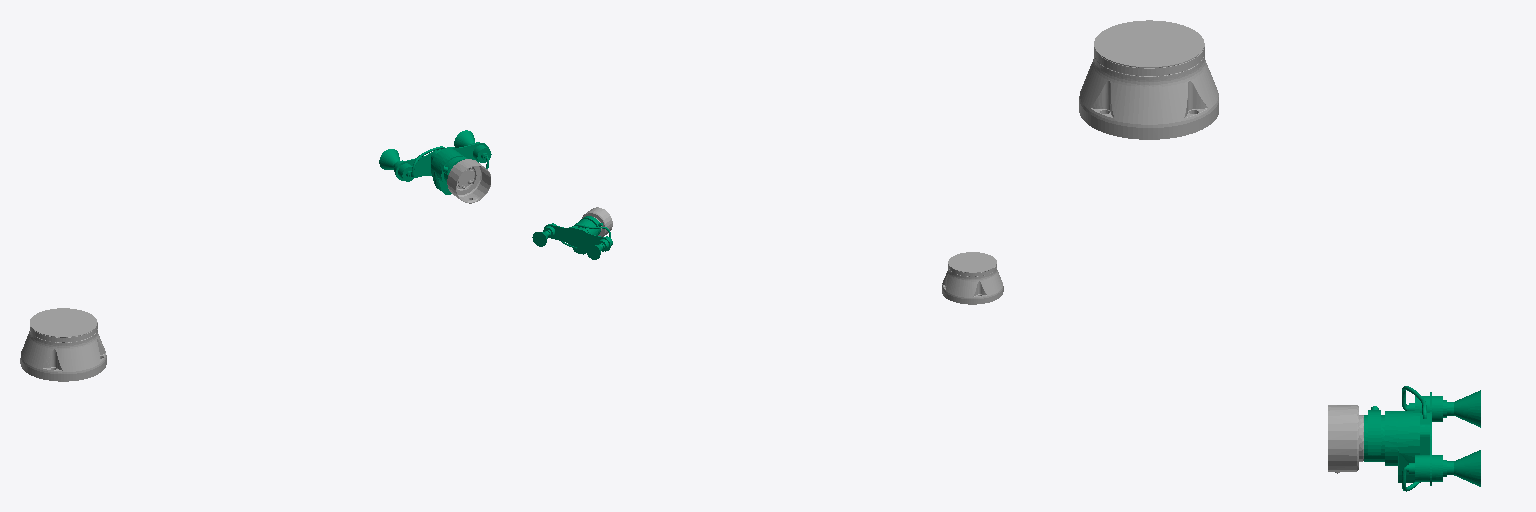
URDF robot description (ur10e):
<?xml version="1.0" ?>
<!-- =================================================================================== -->
<!-- |    This document was autogenerated by xacro from ur10e_robot.urdf.xacro         | -->
<!-- |    EDITING THIS FILE BY HAND IS NOT RECOMMENDED                                 | -->
<!-- =================================================================================== -->
<robot name="ur10e" xmlns:xacro="http://ros.org/wiki/xacro">
  <gazebo>
    <plugin filename="libgazebo_ros_control.so" name="ros_control">
      <!--robotNamespace>/</robotNamespace-->
      <!--robotSimType>gazebo_ros_control/DefaultRobotHWSim</robotSimType-->
    </plugin>
    <!--
    <plugin name="gazebo_ros_power_monitor_controller" filename="libgazebo_ros_power_monitor.so">
      <alwaysOn>true</alwaysOn>
      <updateRate>1.0</updateRate>
      <timeout>5</timeout>
      <powerStateTopic>power_state</powerStateTopic>
      <powerStateRate>10.0</powerStateRate>
      <fullChargeCapacity>87.78</fullChargeCapacity>     
      <dischargeRate>-474</dischargeRate>
      <chargeRate>525</chargeRate>
      <dischargeVoltage>15.52</dischargeVoltage>
      <chargeVoltage>16.41</chargeVoltage>
    </plugin>
-->
  </gazebo>
  <!--
  Author: [author]
  Contributers: [author], [author], [author]
-->
  <link name="base_link">
    <visual>
      <geometry>
        <mesh filename="package://ur_e_description/meshes/ur10e/visual/base.obj"/>
      </geometry>
      <material name="LightGrey">
        <color rgba="0.7 0.7 0.7 1.0"/>
      </material>
    </visual>
    <collision>
      <geometry>
        <mesh filename="package://ur_e_description/meshes/ur10e/collision/base.stl"/>
      </geometry>
    </collision>
    <inertial>
      <mass value="4.0"/>
      <origin rpy="0 0 0" xyz="0.0 0.0 0.0"/>
      <inertia ixx="0.0061063308908" ixy="0.0" ixz="0.0" iyy="0.0061063308908" iyz="0.0" izz="0.01125"/>
    </inertial>
  </link>
  <joint name="shoulder_pan_joint" type="revolute">
    <parent link="base_link"/>
    <child link="shoulder_link"/>
    <origin rpy="0.0 0.0 0.0" xyz="0.0 0.0 0.181"/>
    <axis xyz="0 0 1"/>
    <limit effort="330.0" lower="-6.28318530718" upper="6.28318530718" velocity="3.14"/>
    <dynamics damping="0.0" friction="0.0"/>
  </joint>
  <link name="shoulder_link">
    <visual>
      <geometry>
        <mesh filename="package://ur_e_description/meshes/ur10e/visual/shoulder.obj"/>
      </geometry>
      <material name="LightGrey">
        <color rgba="0.7 0.7 0.7 1.0"/>
      </material>
    </visual>
    <collision>
      <geometry>
        <mesh filename="package://ur_e_description/meshes/ur10e/collision/shoulder.stl"/>
      </geometry>
    </collision>
    <inertial>
      <mass value="7.778"/>
      <origin rpy="0 0 0" xyz="0.0 0.0 0.0"/>
      <inertia ixx="0.0314743125769" ixy="0.0" ixz="0.0" iyy="0.0314743125769" iyz="0.0" izz="0.021875625"/>
    </inertial>
  </link>
  <joint name="shoulder_lift_joint" type="revolute">
    <parent link="shoulder_link"/>
    <child link="upper_arm_link"/>
    <origin rpy="0.0 1.57079632679 0.0" xyz="0.0 0.176 0.0"/>
    <axis xyz="0 1 0"/>
    <limit effort="330.0" lower="-6.28318530718" upper="6.28318530718" velocity="3.14"/>
    <dynamics damping="0.0" friction="0.0"/>
  </joint>
  <link name="upper_arm_link">
    <visual>
      <geometry>
        <mesh filename="package://ur_e_description/meshes/ur10e/visual/upperarm.obj"/>
      </geometry>
      <material name="LightGrey">
        <color rgba="0.7 0.7 0.7 1.0"/>
      </material>
    </visual>
    <collision>
      <geometry>
        <mesh filename="package://ur_e_description/meshes/ur10e/collision/upperarm.stl"/>
      </geometry>
    </collision>
    <inertial>
      <mass value="12.93"/>
      <origin rpy="0 0 0" xyz="0.0 0.0 0.3065"/>
      <inertia ixx="0.42307374077" ixy="0.0" ixz="0.0" iyy="0.42307374077" iyz="0.0" izz="0.036365625"/>
    </inertial>
  </link>
  <joint name="elbow_joint" type="revolute">
    <parent link="upper_arm_link"/>
    <child link="forearm_link"/>
    <origin rpy="0.0 0.0 0.0" xyz="0.0 -0.137 0.613"/>
    <axis xyz="0 1 0"/>
    <limit effort="150.0" lower="-3.14159265359" upper="3.14159265359" velocity="3.14"/>
    <dynamics damping="0.0" friction="0.0"/>
  </joint>
  <link name="forearm_link">
    <visual>
      <geometry>
        <mesh filename="package://ur_e_description/meshes/ur10e/visual/forearm.obj"/>
      </geometry>
      <material name="LightGrey">
        <color rgba="0.7 0.7 0.7 1.0"/>
      </material>
    </visual>
    <collision>
      <geometry>
        <mesh filename="package://ur_e_description/meshes/ur10e/collision/forearm.stl"/>
      </geometry>
    </collision>
    <inertial>
      <mass value="3.87"/>
      <origin rpy="0 0 0" xyz="0.0 0.0 0.2855"/>
      <inertia ixx="0.110590365764" ixy="0.0" ixz="0.0" iyy="0.110590365764" iyz="0.0" izz="0.010884375"/>
    </inertial>
  </link>
  <joint name="wrist_1_joint" type="revolute">
    <parent link="forearm_link"/>
    <child link="wrist_1_link"/>
    <origin rpy="0.0 1.57079632679 0.0" xyz="0.0 0.0 0.571"/>
    <axis xyz="0 1 0"/>
    <limit effort="54.0" lower="-6.28318530718" upper="6.28318530718" velocity="6.28"/>
    <dynamics damping="0.0" friction="0.0"/>
  </joint>
  <link name="wrist_1_link">
    <visual>
      <geometry>
        <mesh filename="package://ur_e_description/meshes/ur10e/visual/wrist1.obj"/>
      </geometry>
      <material name="LightGrey">
        <color rgba="0.7 0.7 0.7 1.0"/>
      </material>
    </visual>
    <collision>
      <geometry>
        <mesh filename="package://ur_e_description/meshes/ur10e/collision/wrist1.stl"/>
      </geometry>
    </collision>
    <inertial>
      <mass value="1.96"/>
      <origin rpy="0 0 0" xyz="0.0 0.135 0.0"/>
      <inertia ixx="0.0051082479567" ixy="0.0" ixz="0.0" iyy="0.0051082479567" iyz="0.0" izz="0.0055125"/>
    </inertial>
  </link>
  <joint name="wrist_2_joint" type="revolute">
    <parent link="wrist_1_link"/>
    <child link="wrist_2_link"/>
    <origin rpy="0.0 0.0 0.0" xyz="0.0 0.135 0.0"/>
    <axis xyz="0 0 1"/>
    <limit effort="54.0" lower="-6.28318530718" upper="6.28318530718" velocity="6.28"/>
    <dynamics damping="0.0" friction="0.0"/>
  </joint>
  <link name="wrist_2_link">
    <visual>
      <geometry>
        <mesh filename="package://ur_e_description/meshes/ur10e/visual/wrist2.obj"/>
      </geometry>
      <material name="LightGrey">
        <color rgba="0.7 0.7 0.7 1.0"/>
      </material>
    </visual>
    <collision>
      <geometry>
        <mesh filename="package://ur_e_description/meshes/ur10e/collision/wrist2.stl"/>
      </geometry>
    </collision>
    <inertial>
      <mass value="1.96"/>
      <origin rpy="0 0 0" xyz="0.0 0.0 0.12"/>
      <inertia ixx="0.0051082479567" ixy="0.0" ixz="0.0" iyy="0.0051082479567" iyz="0.0" izz="0.0055125"/>
    </inertial>
  </link>
  <joint name="wrist_3_joint" type="revolute">
    <parent link="wrist_2_link"/>
    <child link="wrist_3_link"/>
    <origin rpy="0.0 0.0 0.0" xyz="0.0 0.0 0.12"/>
    <axis xyz="0 1 0"/>
    <limit effort="54.0" lower="-6.28318530718" upper="6.28318530718" velocity="6.28"/>
    <dynamics damping="0.0" friction="0.0"/>
  </joint>
  <link name="wrist_3_link">
    <visual>
      <geometry>
        <mesh filename="package://ur_e_description/meshes/ur10e/visual/wrist3.obj"/>
      </geometry>
      <material name="LightGrey">
        <color rgba="0.7 0.7 0.7 1.0"/>
      </material>
    </visual>
    <collision>
      <geometry>
        <mesh filename="package://ur_e_description/meshes/ur10e/collision/wrist3.stl"/>
      </geometry>
    </collision>
    <inertial>
      <mass value="0.202"/>
      <origin rpy="1.57079632679 0 0" xyz="0.0 0.092 0.0"/>
      <inertia ixx="0.000144345775595" ixy="0.0" ixz="0.0" iyy="0.000144345775595" iyz="0.0" izz="0.000204525"/>
    </inertial>
  </link>
  <joint name="ee_fixed_joint" type="fixed">
    <parent link="wrist_3_link"/>
    <child link="ee_link"/>
    <origin rpy="0.0 0.0 1.57079632679" xyz="0.0 0.117 0.0"/>
  </joint>
  <link name="ee_link">
    <collision>
      <geometry>
        <box size="0.01 0.01 0.01"/>
      </geometry>
      <origin rpy="0 0 0" xyz="-0.01 0 0"/>
    </collision>
  </link>
  <transmission name="shoulder_pan_trans">
    <type>transmission_interface/SimpleTransmission</type>
    <joint name="shoulder_pan_joint">
      <hardwareInterface>hardware_interface/PositionJointInterface</hardwareInterface>
    </joint>
    <actuator name="shoulder_pan_motor">
      <mechanicalReduction>1</mechanicalReduction>
    </actuator>
  </transmission>
  <transmission name="shoulder_lift_trans">
    <type>transmission_interface/SimpleTransmission</type>
    <joint name="shoulder_lift_joint">
      <hardwareInterface>hardware_interface/PositionJointInterface</hardwareInterface>
    </joint>
    <actuator name="shoulder_lift_motor">
      <mechanicalReduction>1</mechanicalReduction>
    </actuator>
  </transmission>
  <transmission name="elbow_trans">
    <type>transmission_interface/SimpleTransmission</type>
    <joint name="elbow_joint">
      <hardwareInterface>hardware_interface/PositionJointInterface</hardwareInterface>
    </joint>
    <actuator name="elbow_motor">
      <mechanicalReduction>1</mechanicalReduction>
    </actuator>
  </transmission>
  <transmission name="wrist_1_trans">
    <type>transmission_interface/SimpleTransmission</type>
    <joint name="wrist_1_joint">
      <hardwareInterface>hardware_interface/PositionJointInterface</hardwareInterface>
    </joint>
    <actuator name="wrist_1_motor">
      <mechanicalReduction>1</mechanicalReduction>
    </actuator>
  </transmission>
  <transmission name="wrist_2_trans">
    <type>transmission_interface/SimpleTransmission</type>
    <joint name="wrist_2_joint">
      <hardwareInterface>hardware_interface/PositionJointInterface</hardwareInterface>
    </joint>
    <actuator name="wrist_2_motor">
      <mechanicalReduction>1</mechanicalReduction>
    </actuator>
  </transmission>
  <transmission name="wrist_3_trans">
    <type>transmission_interface/SimpleTransmission</type>
    <joint name="wrist_3_joint">
      <hardwareInterface>hardware_interface/PositionJointInterface</hardwareInterface>
    </joint>
    <actuator name="wrist_3_motor">
      <mechanicalReduction>1</mechanicalReduction>
    </actuator>
  </transmission>
  <gazebo reference="shoulder_link">
    <selfCollide>true</selfCollide>
  </gazebo>
  <gazebo reference="upper_arm_link">
    <selfCollide>true</selfCollide>
  </gazebo>
  <gazebo reference="forearm_link">
    <selfCollide>true</selfCollide>
  </gazebo>
  <gazebo reference="wrist_1_link">
    <selfCollide>true</selfCollide>
  </gazebo>
  <gazebo reference="wrist_3_link">
    <selfCollide>true</selfCollide>
  </gazebo>
  <gazebo reference="wrist_2_link">
    <selfCollide>true</selfCollide>
  </gazebo>
  <gazebo reference="ee_link">
    <selfCollide>true</selfCollide>
  </gazebo>
  <!-- ROS base_link to UR 'Base' Coordinates transform -->
  <link name="base"/>
  <joint name="base_link-base_fixed_joint" type="fixed">
    <!-- NOTE: this rotation is only needed as long as base_link itself is
                 not corrected wrt the real robot (ie: rotated over 180
                 degrees)
      -->
    <origin rpy="0 0 -3.14159265359" xyz="0 0 0"/>
    <parent link="base_link"/>
    <child link="base"/>
  </joint>
  <!-- Frame coincident with all-zeros TCP on UR controller -->
  <link name="tool0"/>
  <joint name="wrist_3_link-tool0_fixed_joint" type="fixed">
    <origin rpy="-1.57079632679 0 0" xyz="0 0.117 0"/>
    <parent link="wrist_3_link"/>
    <child link="tool0"/>
  </joint>

  <joint name="vacuumgripper_joint" type="fixed">
    <parent link="tool0"/>
    <child link="vacuumgripper"/>
    <origin rpy="0 0 0" xyz="0 0 0"/>
  </joint>
  <link name="vacuumgripper">
    <visual>
      <geometry>
        <mesh filename="package://ur_end_effectors/meshes/visual/vacuumgripper.stl"/>
      </geometry>
    </visual>
    <collision>
      <geometry>
        <mesh filename="package://ur_end_effectors/meshes/collision/vacuumgripper.stl"/>
      </geometry>
    </collision>
  </link>
  <!-- TCP frame -->
  <joint name="tcp_joint" type="fixed">
    <origin rpy="0 0 0" xyz="0 0 0.16"/>
    <parent link="vacuumgripper"/>
    <child link="tcp"/>
  </joint>
  <link name="tcp"/>
  <!-- define the ur10e's position and orientation in the world coordinate system -->

  <link name="world"/>
  <joint name="world_joint" type="fixed">
    <parent link="world"/>
    <child link="base_link"/>
    <origin rpy="0.0 0.0 0.0" xyz="0.0 0.0 0.0"/>
  </joint>
</robot>

--- Facts derived from the render (not from the file) ---
Views: 3 orthographic renders of the robot side by side, from view 1: azimuth 30°, elevation 25°; view 2: azimuth 150°, elevation 25°; view 3: azimuth 270°, elevation 25°.
Robot: ur10e — 13 links, 12 joints (6 revolute, 6 fixed); root link world; default pose: every joint at zero.
Visible links, largest first — view 1: base_link, vacuumgripper, wrist_3_link; view 2: base_link, vacuumgripper; view 3: base_link, vacuumgripper, wrist_3_link.
Link boxes in pixels (bbox=[...]): base_link: bbox=[20, 308, 106, 381]; vacuumgripper: bbox=[379, 130, 491, 194]; wrist_3_link: bbox=[447, 159, 490, 203]; base_link: bbox=[942, 252, 1003, 304]; vacuumgripper: bbox=[532, 216, 612, 259]; base_link: bbox=[1079, 20, 1218, 139]; vacuumgripper: bbox=[1364, 386, 1480, 491]; wrist_3_link: bbox=[1328, 405, 1363, 473].
Size in the robot's own frame: 1.4 by 0.5443 by 0.1069 metres.
3 mesh visuals loaded from 8 distinct referenced files (1 binary STL, 2 OBJ); not drawn: 5 (reference not matched to a file when rendering).